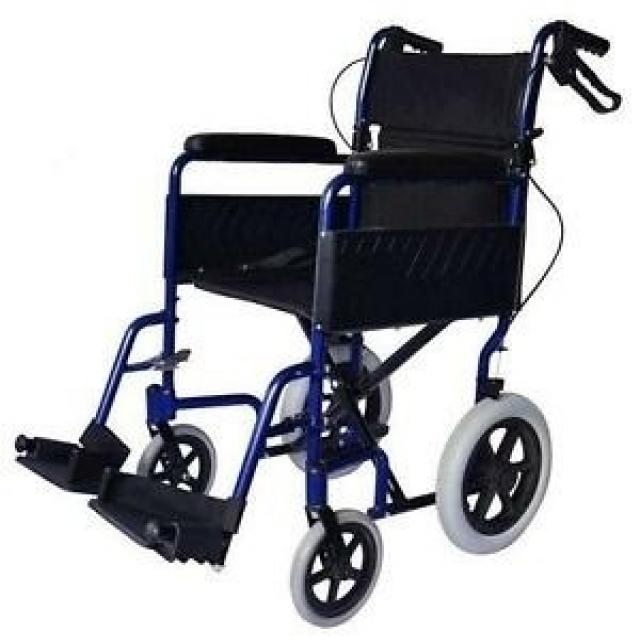wheelchair: (8, 9, 630, 635)
